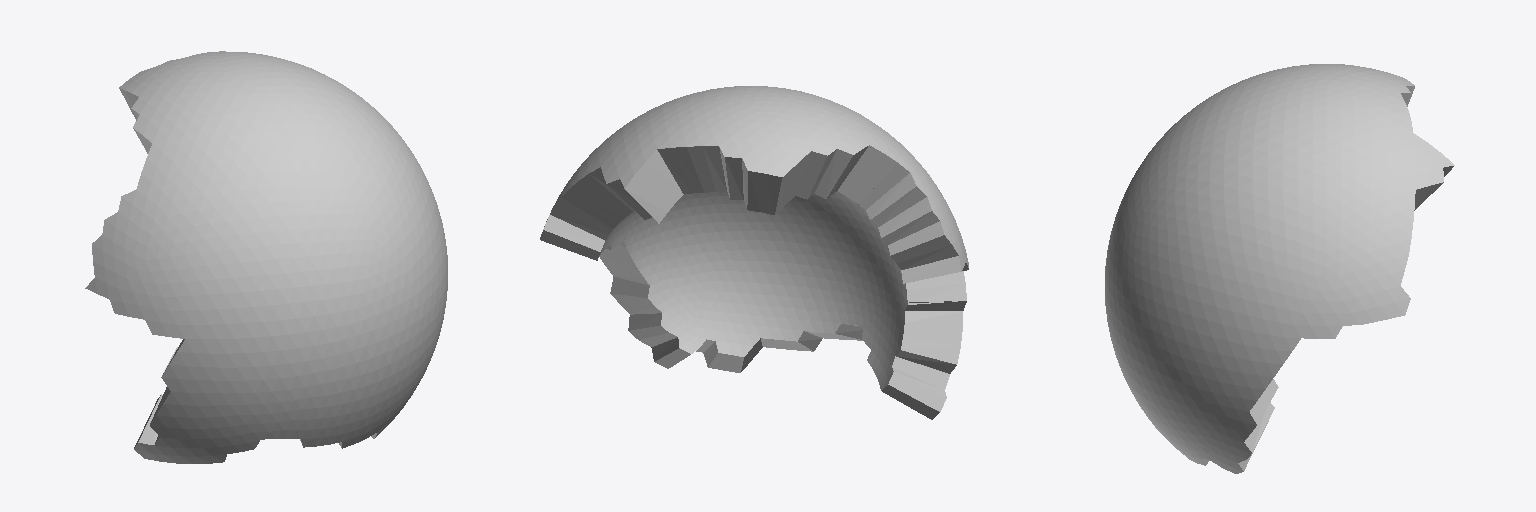
The model's file is clouds_10.obj.
3 renders of one model, left to right at view 1: azimuth 30°, elevation 25°; view 2: azimuth 150°, elevation 25°; view 3: azimuth 270°, elevation 25°, orthographic.
Parts seen in each view (by area): view 1: Icosphere.035; view 2: Icosphere.035; view 3: Icosphere.035.
Boxes of the visible parts, <box> form: Icosphere.035: <box>85,51,447,463</box>; Icosphere.035: <box>540,86,968,419</box>; Icosphere.035: <box>1105,64,1454,473</box>.
Size of the model in its own units: 20.49 by 18.09 by 17.09.